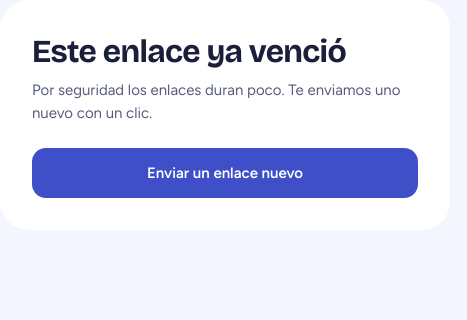
it: LinkGate › shows why a renewal failed and lets the person try again
Click the button "Enviar un enlace nuevo".
click(225, 173)  # box x1=32 y1=148 x2=418 y2=198
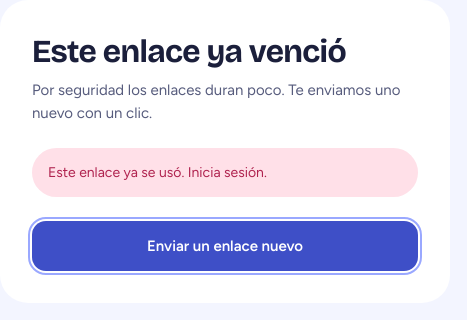
Check: the button "Enviar un enlace nuevo" is enabled, box x1=32 y1=221 x2=418 y2=271
Check: the message reads "Este enlace ya se usó. Inicia sesión.", box x1=48 y1=164 x2=267 y2=181
